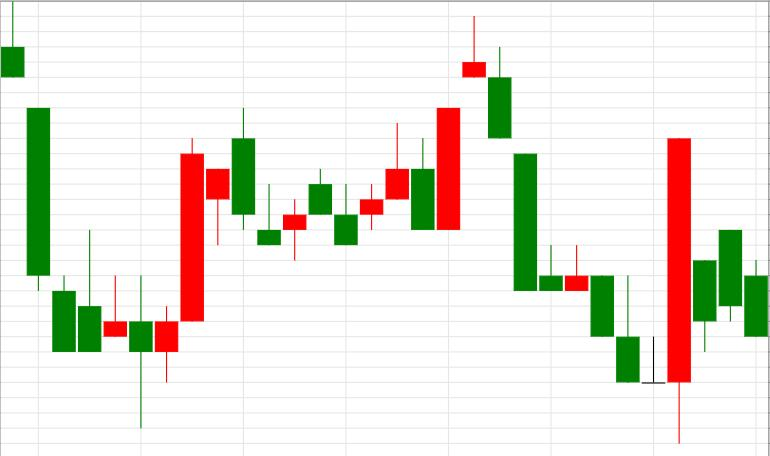evening_star_fall: (334, 16, 511, 246)
hanging_man_fall: (129, 138, 230, 428)
morning_star_rise: (488, 46, 691, 444)
